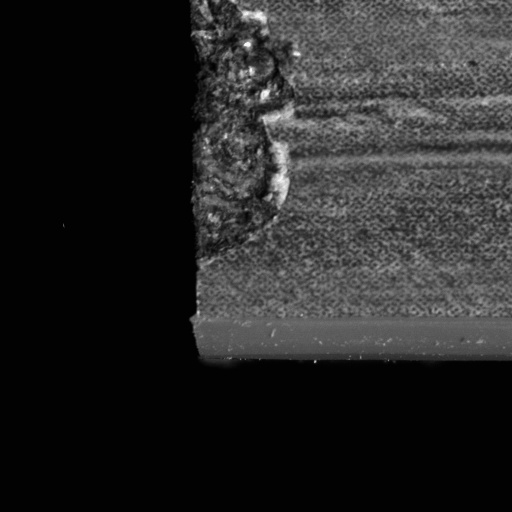bengque: (184, 2, 284, 255)
